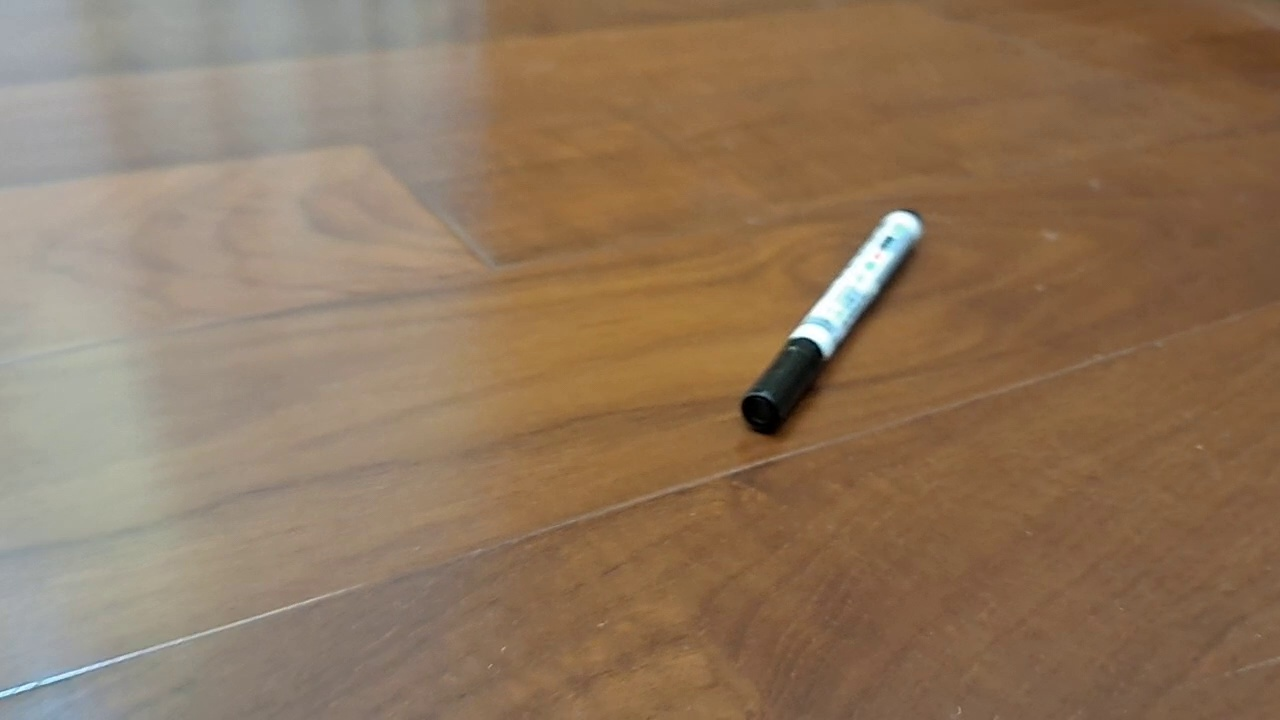pen: (739, 207, 925, 437)
